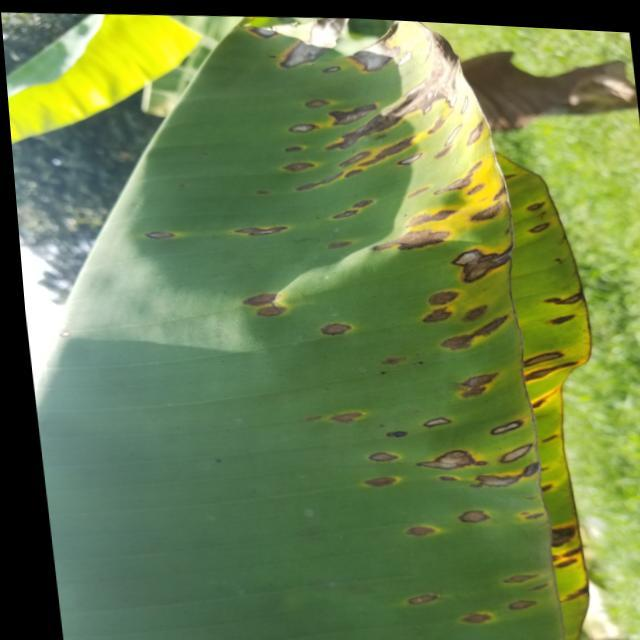Early_rust: (111, 22, 606, 640)
